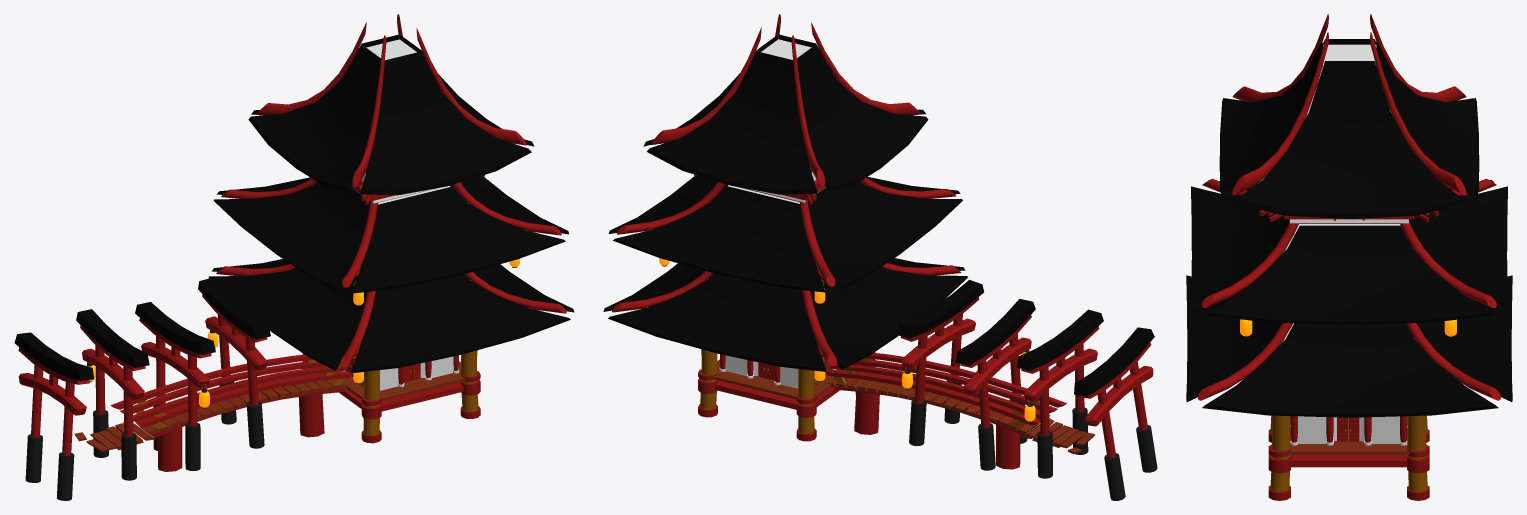
The picture shows the model from 3 angles, left to right: view 1: azimuth 30°, elevation 25°; view 2: azimuth 150°, elevation 25°; view 3: azimuth 270°, elevation 25°; orthographic projection. The views are drawn at different scales.
Visible parts, largest first — view 1: Plane014, Plane010, Plane006, Plane013, Plane017, Plane009, Plane012, Box121, Box117, Box113, Box104, Box076 (+31 smaller); view 2: Plane015, Plane011, Plane007, Plane013, Plane017, Plane009, Box113, Box104, Box121, Box117, Plane012, Box071 (+30 smaller); view 3: Plane016, Plane008, Plane012, Plane010, Plane011, Plane015, Plane014, Plane006, Plane007, Box004, Box006, Loft013 (+12 smaller).
Part boxes in pixels (left/top/right/bottom): Plane014: left=360, top=51, right=531, bottom=195; Plane010: left=352, top=186, right=565, bottom=293; Plane006: left=351, top=274, right=570, bottom=373; Plane013: left=213, top=182, right=370, bottom=290; Plane017: left=248, top=44, right=380, bottom=192; Plane009: left=208, top=268, right=367, bottom=370; Plane012: left=449, top=176, right=568, bottom=234; Box121: left=198, top=277, right=270, bottom=339; Box117: left=135, top=302, right=215, bottom=354; Box113: left=76, top=309, right=149, bottom=367; Box104: left=14, top=332, right=94, bottom=380; Box076: left=133, top=365, right=348, bottom=421; Plane015: left=647, top=51, right=817, bottom=194; Plane011: left=613, top=186, right=825, bottom=292; Plane007: left=608, top=273, right=826, bottom=371; Plane013: left=807, top=182, right=962, bottom=290; Plane017: left=797, top=44, right=928, bottom=191; Plane009: left=810, top=267, right=967, bottom=369; Box113: left=1016, top=309, right=1103, bottom=371; Box104: left=1074, top=327, right=1154, bottom=396; Box121: left=896, top=280, right=983, bottom=338; Box117: left=955, top=299, right=1035, bottom=365; Plane012: left=608, top=175, right=728, bottom=233; Box071: left=826, top=369, right=1040, bottom=425; Plane016: left=1234, top=61, right=1465, bottom=218; Plane008: left=1202, top=323, right=1498, bottom=417; Plane012: left=1206, top=225, right=1494, bottom=324; Plane010: left=1191, top=186, right=1289, bottom=309; Plane011: left=1409, top=186, right=1507, bottom=309; Plane015: left=1376, top=40, right=1479, bottom=198; Plane014: left=1219, top=40, right=1322, bottom=198; Plane006: left=1186, top=275, right=1282, bottom=401; Plane007: left=1416, top=275, right=1512, bottom=401; Box004: left=1297, top=416, right=1399, bottom=443; Box006: left=1290, top=454, right=1407, bottom=467; Loft013: left=1232, top=32, right=1328, bottom=195.
Size of the model in its own units: 994 by 780 by 508.
